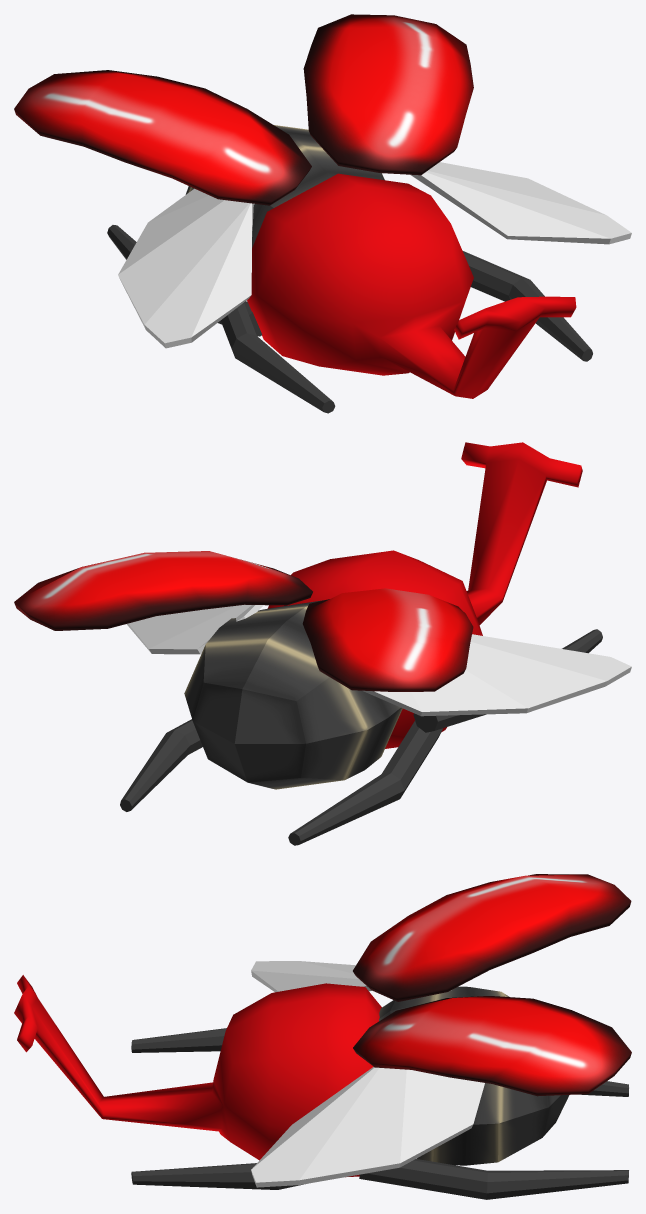
The model's file is escarabajo.fbx.
3 views of the same model, one above another, from view 1: azimuth 30°, elevation 25°; view 2: azimuth 150°, elevation 25°; view 3: azimuth 270°, elevation 25° (orthographic). The views are drawn at different scales.
Parts seen in each view (by area): view 1: Caparazon, Cabeza, Ala_d, Ala_i, Patas_1, Culo, Patas_2; view 2: Caparazon, Culo, Cabeza, Ala_d, Patas_2, Ala_i, Patas_1; view 3: Caparazon, Cabeza, Ala_i, Culo, Patas_2, Patas_1, Ala_d.
Boxes of the visible parts, bbox=[...] form: Caparazon: bbox=[14, 14, 473, 205]; Cabeza: bbox=[247, 173, 576, 398]; Ala_d: bbox=[118, 188, 254, 348]; Ala_i: bbox=[410, 162, 631, 244]; Patas_1: bbox=[220, 251, 592, 413]; Culo: bbox=[185, 125, 384, 247]; Patas_2: bbox=[107, 225, 262, 336]; Caparazon: bbox=[14, 551, 473, 691]; Culo: bbox=[184, 600, 402, 789]; Cabeza: bbox=[268, 442, 582, 748]; Ala_d: bbox=[362, 634, 631, 716]; Patas_2: bbox=[120, 719, 442, 845]; Ala_i: bbox=[126, 604, 263, 654]; Patas_1: bbox=[413, 629, 602, 732]; Caparazon: bbox=[353, 874, 631, 1096]; Cabeza: bbox=[14, 975, 381, 1177]; Ala_i: bbox=[251, 1067, 484, 1187]; Culo: bbox=[379, 986, 569, 1165]; Patas_2: bbox=[359, 1081, 628, 1199]; Patas_1: bbox=[131, 1028, 305, 1189]; Ala_d: bbox=[251, 961, 451, 992].
Bounding box in the file's own units: 811 × 375 × 972.
